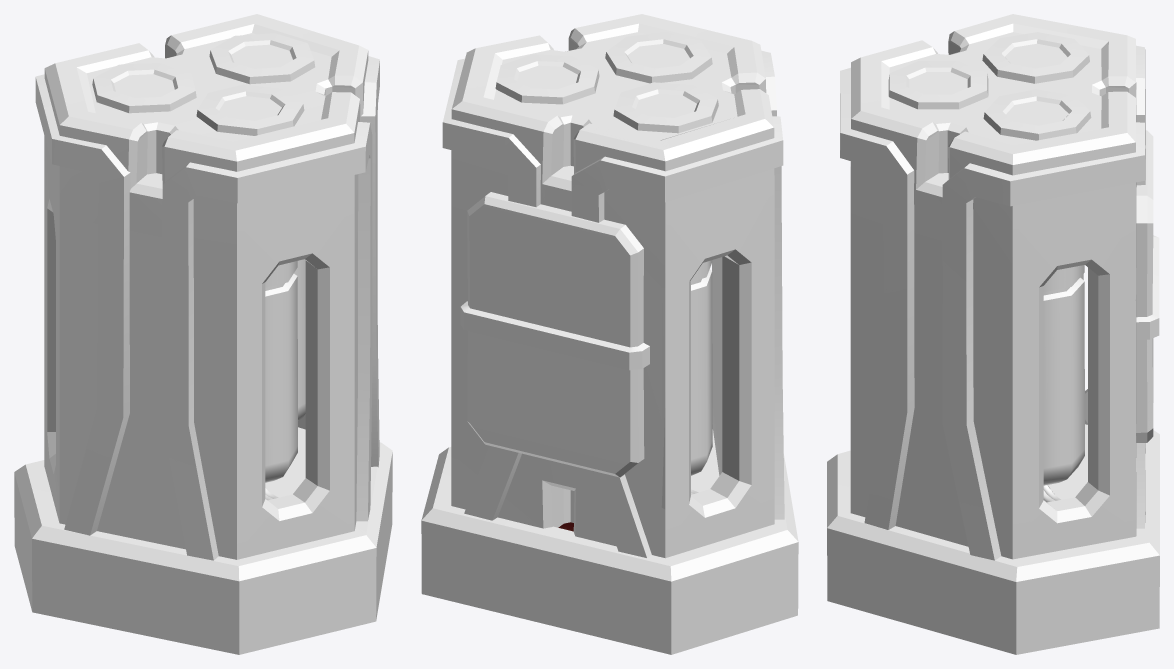
The model's file is ElectricityBoxOrange.glb.
The picture shows the model from 3 angles, left to right: view 1: azimuth 30°, elevation 25°; view 2: azimuth 150°, elevation 25°; view 3: azimuth 270°, elevation 25°; orthographic projection.
Parts seen in each view (by area): view 1: DamageZoneHologram; view 2: DamageZoneHologram; view 3: DamageZoneHologram.
Part boxes in pixels (left/top/right/bottom): DamageZoneHologram: left=14, top=14, right=392, bottom=654; DamageZoneHologram: left=421, top=14, right=798, bottom=654; DamageZoneHologram: left=827, top=14, right=1159, bottom=654.
Size of the model in its own units: 0.5541 by 0.7209 by 0.4474.
2 materials, 1 textured.
